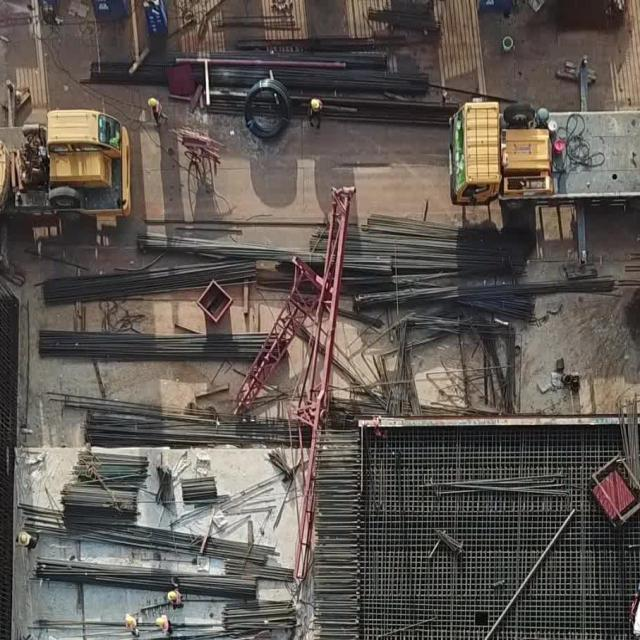crane: (444, 88, 640, 221), (0, 101, 138, 234)
